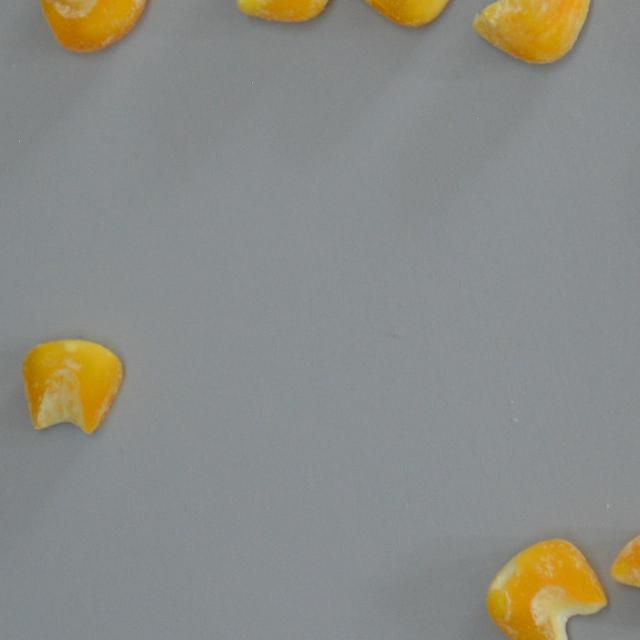no_canjicado: (346, 0, 464, 28)
pelicula: (485, 539, 607, 640), (22, 339, 124, 434), (472, 0, 590, 66), (37, 0, 148, 54), (608, 528, 640, 629), (229, 0, 335, 24)
